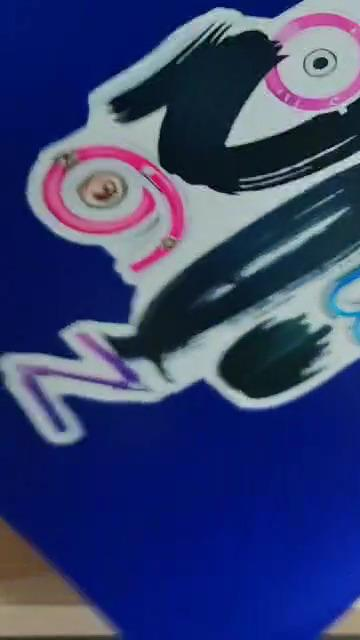B_R1: (11, 0, 360, 442)
